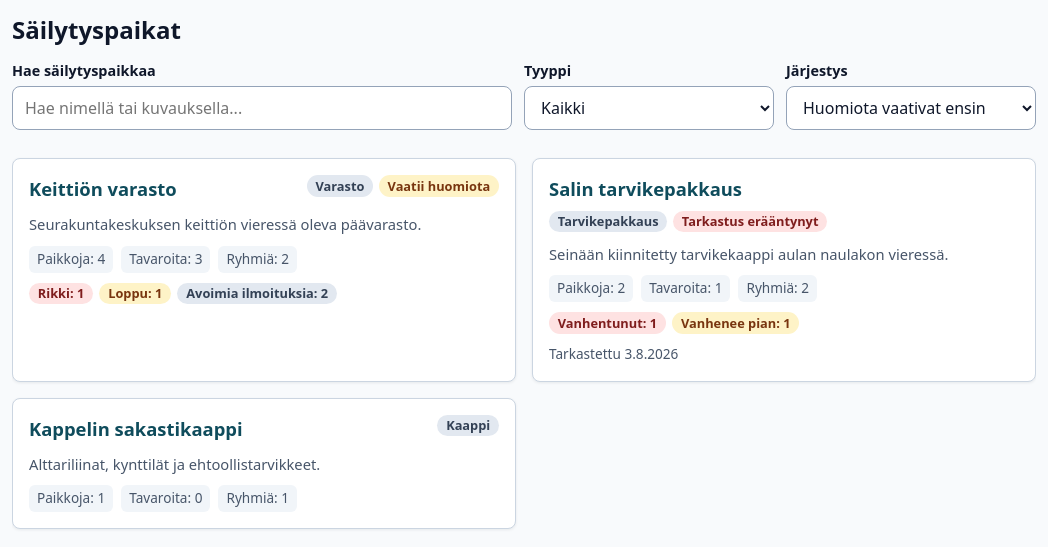
Test case: StoragesPage › lists storages sorted by needs attention and supports kind filter and search
Expected: the heading "Keittiön varasto" is shown, [29,175,177,203]
Expected: the heading "Salin tarvikepakkaus" is shown, [549,175,742,203]
// Filter by kind: kit
Select "Tarvikepakkaus" in the dropdown labelled "Tyyppi": (649, 108) [524,86,774,130]
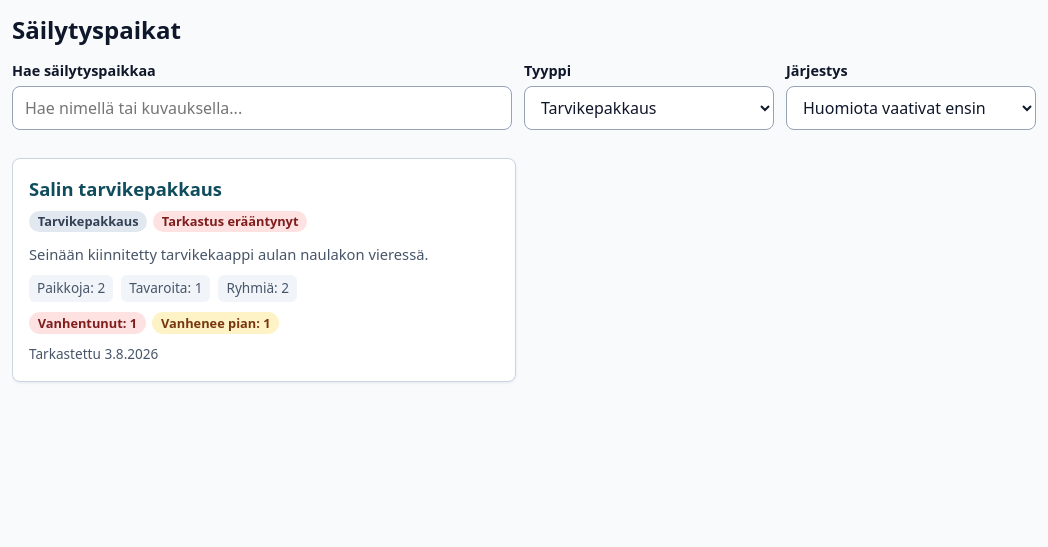
Expected: the heading "Salin tarvikepakkaus" is shown, [29,175,222,203]
Expected: the link "Keittiön varasto" is gone
// Reset filter and search
Select "Kaikki" in the dropdown labelled "Tyyppi": (649, 108) [524,86,774,130]
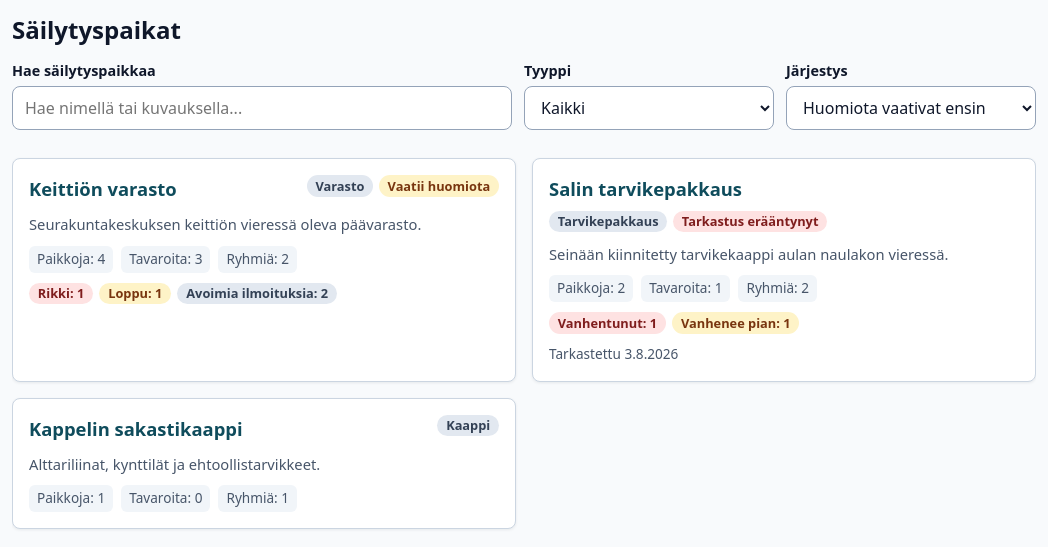
In the search field labelled "Hae säilytyspaikkaa": (262, 108) [12,86,512,130], type "sakasti"
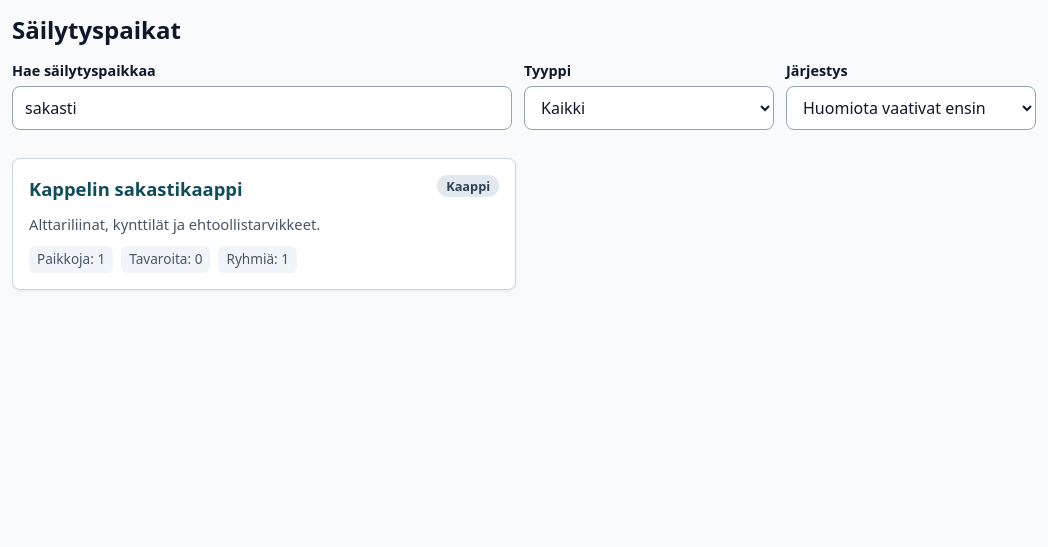
Expected: the heading "Kappelin sakastikaappi" is shown, [29,175,243,203]
Expected: the link "Keittiön varasto" is gone
